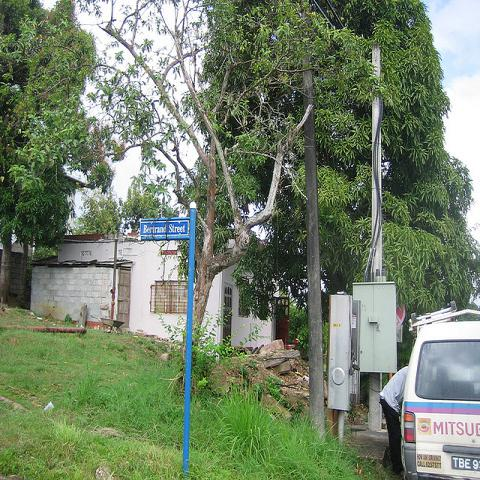car: (400, 318, 480, 479)
truck: (402, 312, 480, 474)
